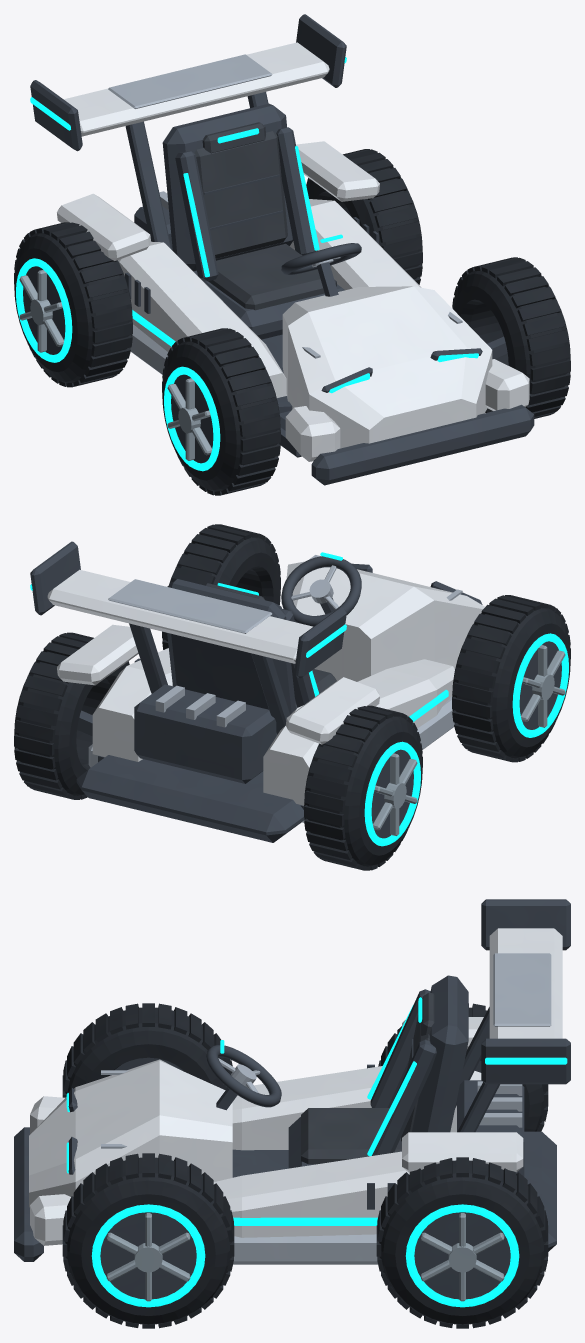
Rendered from kart.glb.
3 views of the same model, one above another, from view 1: azimuth 30°, elevation 25°; view 2: azimuth 150°, elevation 25°; view 3: azimuth 270°, elevation 25° (orthographic). The views are drawn at different scales.
Visible parts, largest first — view 1: Kart_Body, Wheel_FL, Wheel_RL, Wheel_FR, Wheel_RR, Steering_Wheel; view 2: Kart_Body, Wheel_FL, Wheel_RL, Wheel_RR, Wheel_FR, Steering_Wheel; view 3: Kart_Body, Wheel_FR, Wheel_RR, Wheel_FL, Steering_Wheel, Wheel_RL.
Boxes of the visible parts, x1,y1,x2,y2 form: Kart_Body: (30,14,534,485); Wheel_FL: (162,328,280,495); Wheel_RL: (14,222,132,387); Wheel_FR: (452,257,570,418); Wheel_RR: (306,149,422,284); Steering_Wheel: (281,234,361,274); Kart_Body: (30,541,484,842); Wheel_FL: (452,595,570,762); Wheel_RL: (304,705,422,870); Wheel_RR: (14,632,129,799); Wheel_FR: (162,524,280,649); Steering_Wheel: (281,552,361,626); Kart_Body: (14,899,570,1264); Wheel_FR: (62,1153,234,1328); Wheel_RR: (376,1157,548,1328); Wheel_FL: (62,1003,232,1097); Steering_Wheel: (206,1040,281,1107); Wheel_RL: (378,1003,548,1131).
Bounding box in the file's own units: 2.38 × 1.62 × 2.98.
7 materials, 7 textured.
